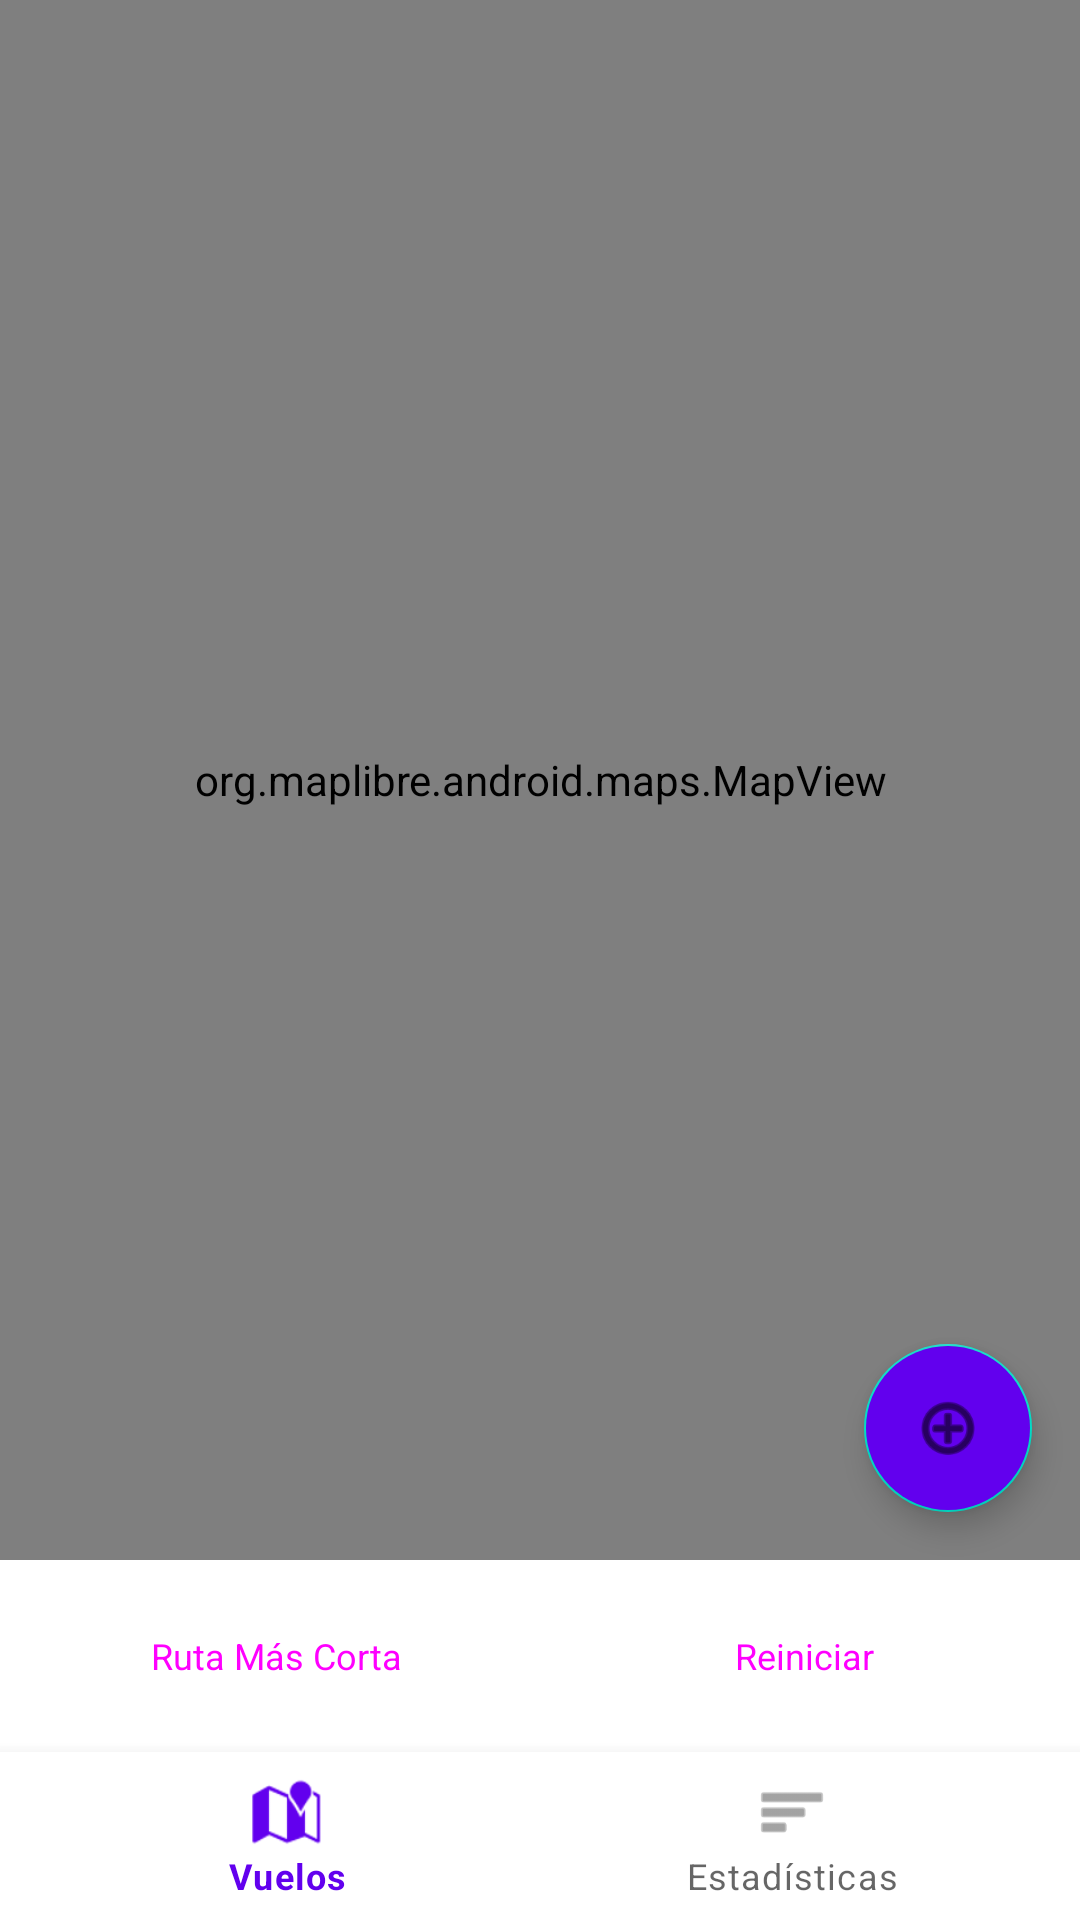

Icon bounding boxes for this 1080px×1920px phone screenshot, format (x1=x1, y1=y1, x2=x2, y2=y2):
Agregar aeropuertos: (x1=864, y1=1344, x2=1032, y2=1512)
